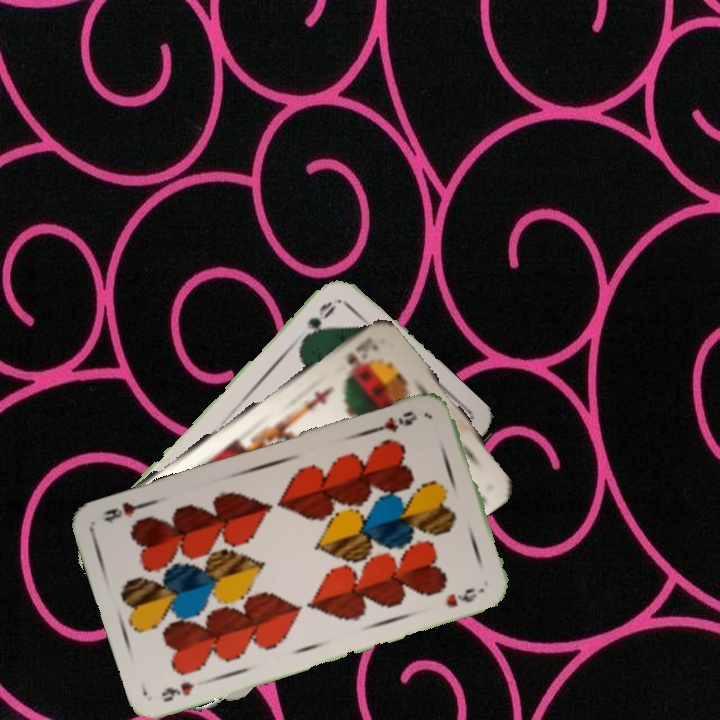GO: (297, 297, 339, 345)
H9: (370, 407, 420, 436), (157, 677, 197, 705)
SK: (341, 339, 382, 377)
